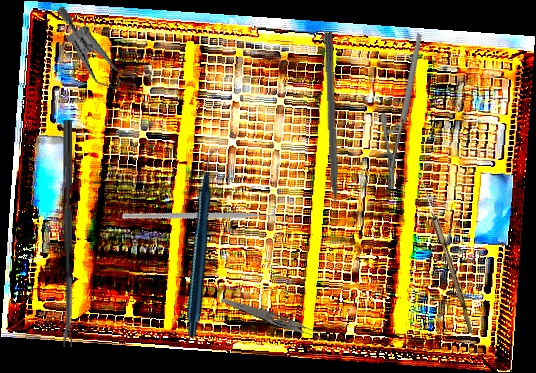Chopper: (120, 143, 287, 298)
Dressing Forceps: (219, 295, 327, 343)
Handpiece: (107, 144, 302, 341)
Needle Holder: (343, 32, 468, 192)
Pusher: (322, 32, 340, 227)
Speculum: (39, 3, 169, 103)
Surgical Spoon: (415, 174, 478, 334), (62, 120, 72, 347)
